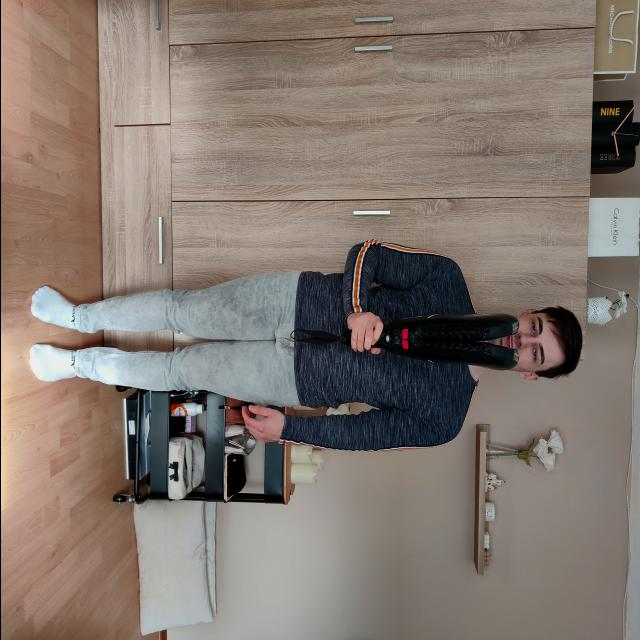paddle: (340, 312, 520, 372)
